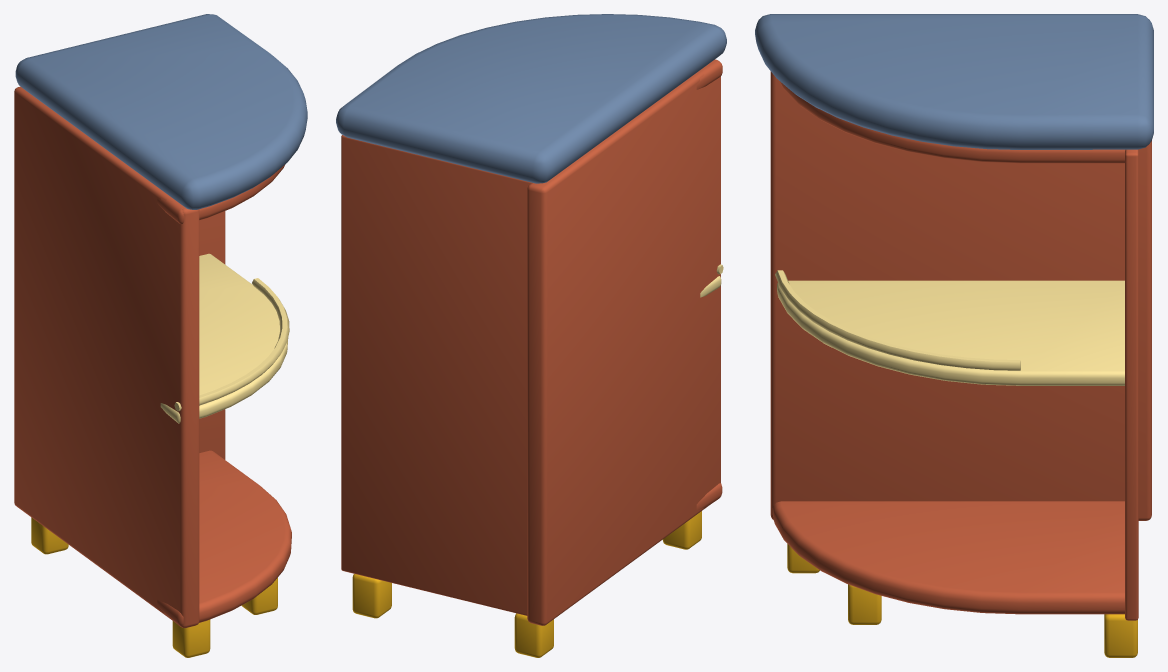
The model's file is armario_cozinha_ponta_curva_direita_classica.glb.
3 renders of one model, left to right at view 1: azimuth 30°, elevation 25°; view 2: azimuth 150°, elevation 25°; view 3: azimuth 270°, elevation 25°, orthographic. The views are drawn at different scales.
Visible parts, largest first — view 1: armario_cozinha_ponta_curva_direita_classica; view 2: armario_cozinha_ponta_curva_direita_classica; view 3: armario_cozinha_ponta_curva_direita_classica.
Part boxes in pixels (x1,y1,x2,y2): armario_cozinha_ponta_curva_direita_classica: [14, 14, 307, 657]; armario_cozinha_ponta_curva_direita_classica: [336, 14, 726, 657]; armario_cozinha_ponta_curva_direita_classica: [755, 14, 1153, 657].
Bounding box in the file's own units: 0.4009 × 0.9 × 0.5964.
1 material, 1 textured.
